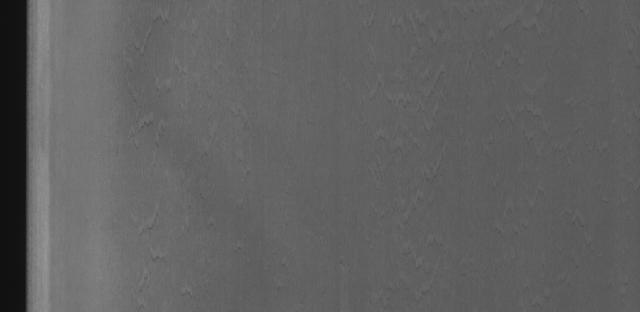silk_spot: (109, 17, 471, 264)
